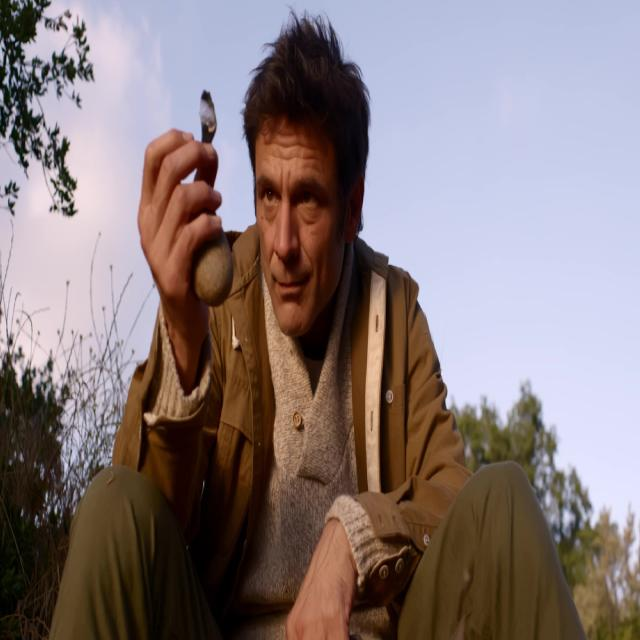human: (53, 16, 591, 640)
